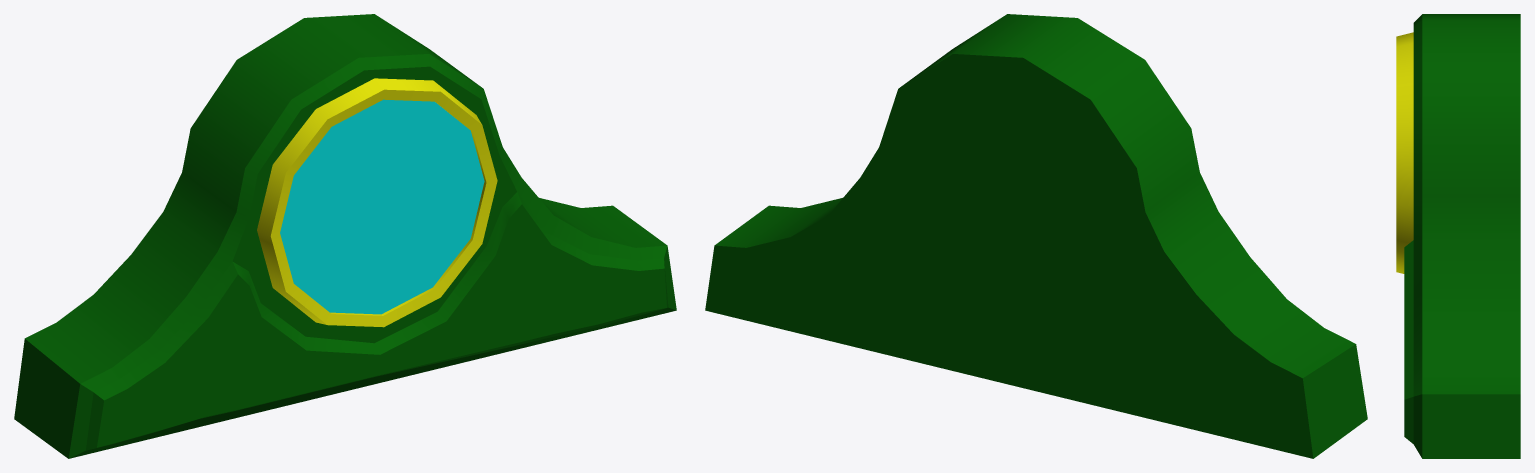
File: DeskClock.fbx
3 views of the same model, side by side, from view 1: azimuth 30°, elevation 25°; view 2: azimuth 150°, elevation 25°; view 3: azimuth 270°, elevation 25° (orthographic). The views are drawn at different scales.
Visible parts, largest first — view 1: LR_DeskClock; view 2: LR_DeskClock; view 3: LR_DeskClock.
Boxes of the visible parts, bbox=[...] form: LR_DeskClock: bbox=[14, 14, 676, 458]; LR_DeskClock: bbox=[705, 14, 1367, 458]; LR_DeskClock: bbox=[1396, 14, 1520, 458].
Size of the model in its own units: 61 by 31.66 by 11.97.
